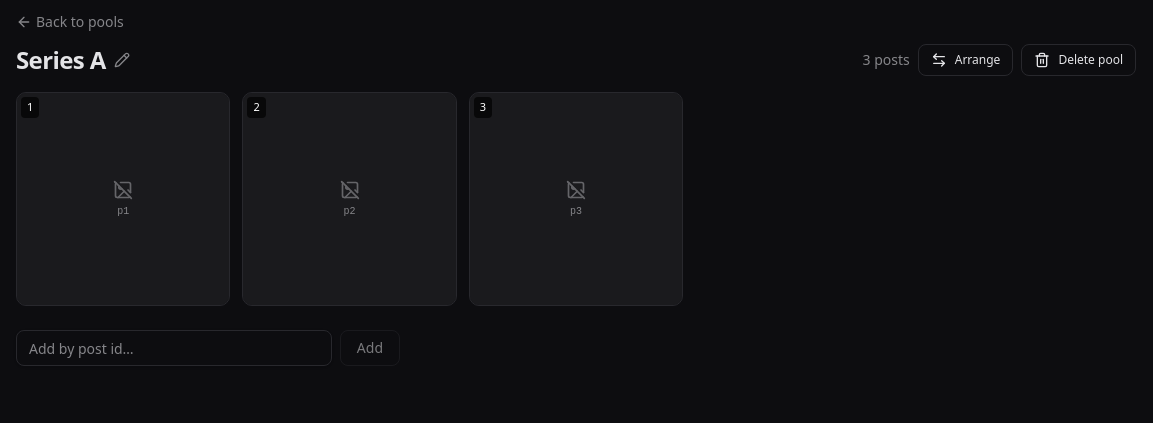
Test case: PoolView › removes a member in arrange mode
Expected: the heading "Series A" is shown, left=16, top=44, right=130, bottom=76
Click the button "Arrange": x=966, y=60 left=918, top=44, right=1013, bottom=76
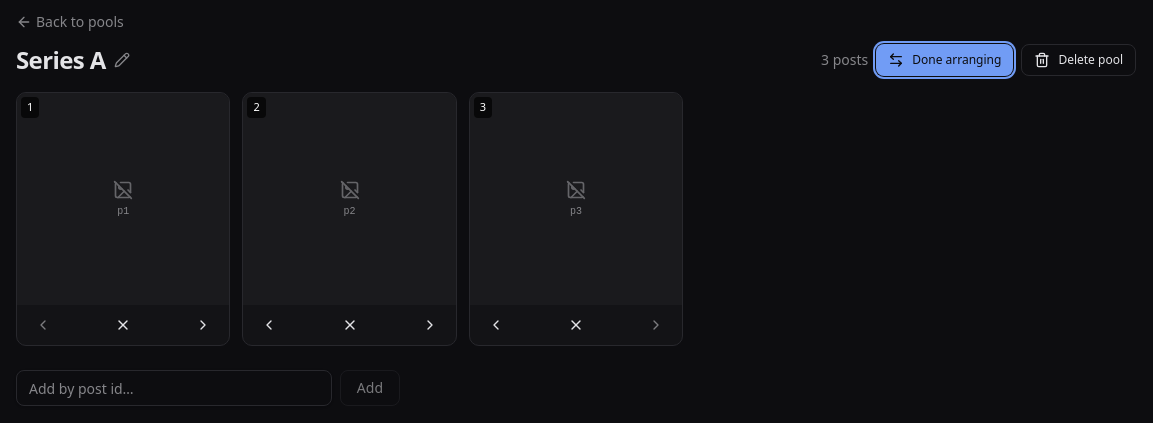
Click the button named "remove post p2": x=350, y=325 left=330, top=309, right=370, bottom=341
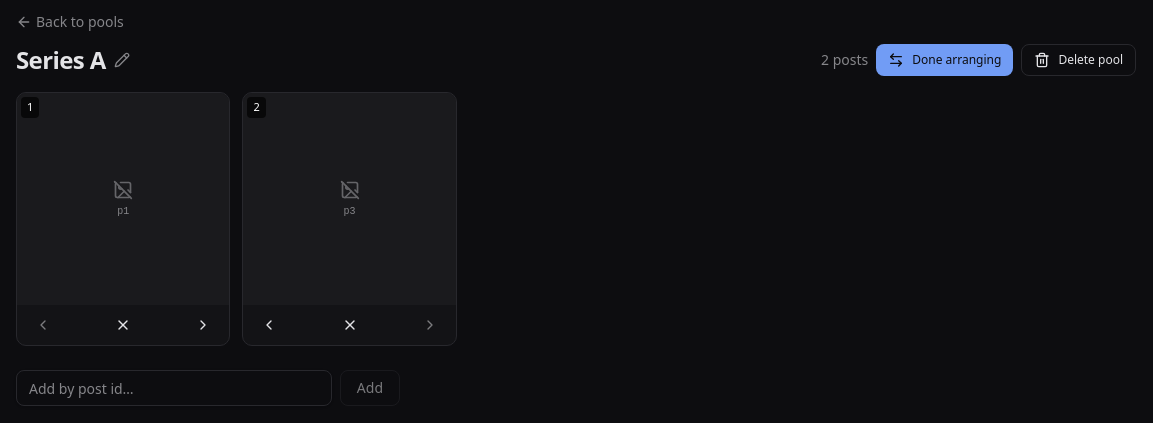
Expected: the number of list items is 2, left=16, top=92, right=230, bottom=346; left=242, top=92, right=457, bottom=346
